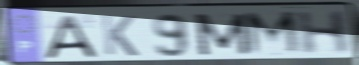9: (150, 12, 191, 58)
A: (42, 14, 100, 60)
H: (295, 9, 351, 57)
K: (99, 14, 141, 58)
M: (243, 10, 305, 58), (191, 12, 253, 57)
